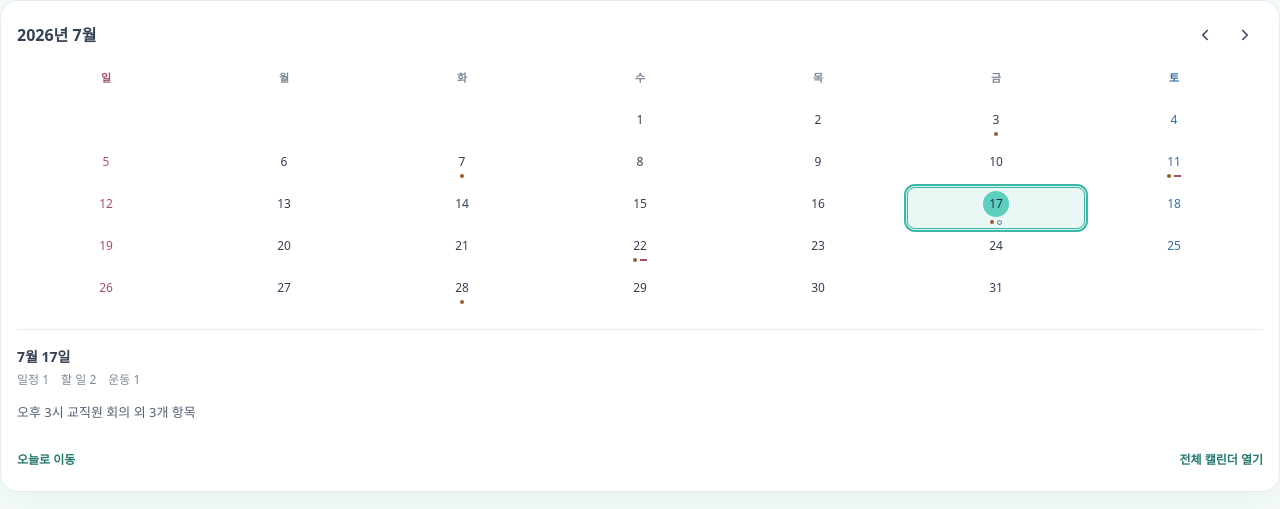
it: CompactMonthCalendar › selects a date and supports arrow-key focus movement
The width and height of the screenshot is (1280, 509).
Press ArrowRight in the button named "7월 17일", box [907, 187, 1085, 229]
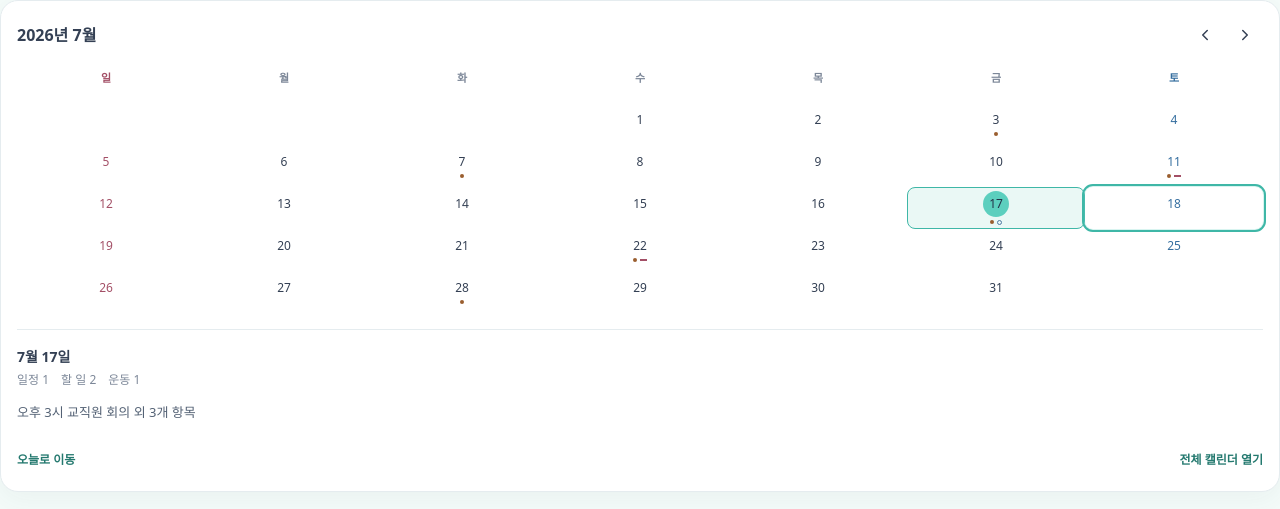
Click the button named "7월 18일": (1174, 208) [1085, 187, 1263, 229]
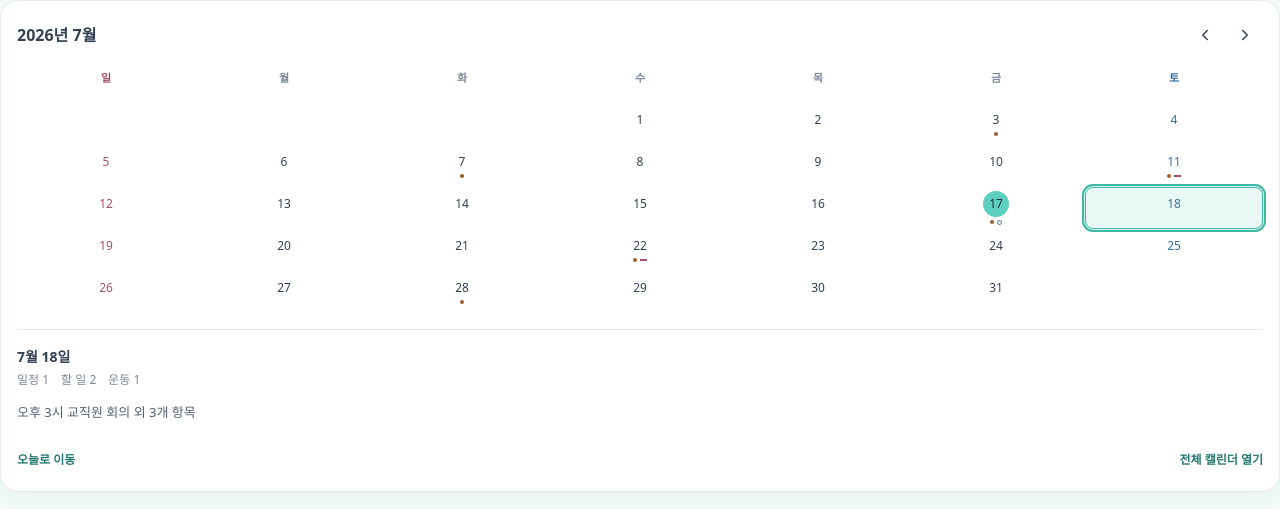
Now the text "7월 18일" is shown, box [17, 347, 70, 366]
